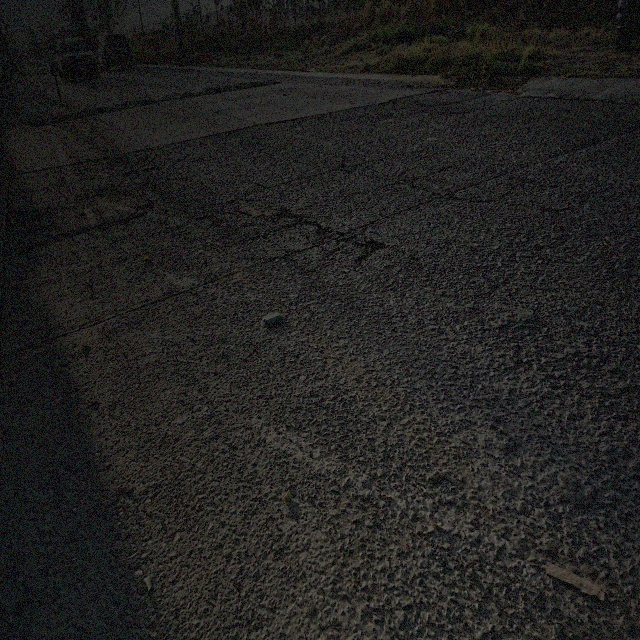pothole: (354, 234, 386, 269), (276, 204, 308, 230), (313, 219, 342, 245), (122, 203, 154, 224)
